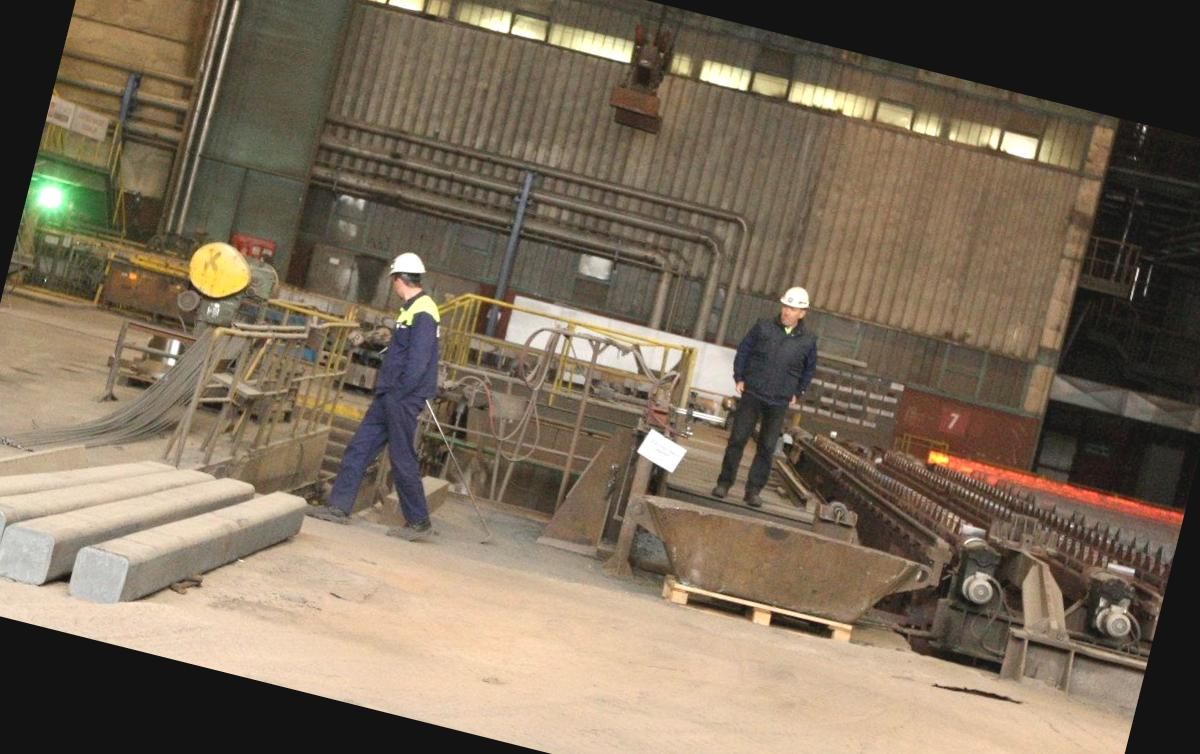helmet: (378, 245, 430, 294), (772, 281, 815, 326)
no_vest: (356, 290, 466, 418), (728, 310, 824, 419)
person: (299, 238, 503, 554), (695, 263, 851, 521)
